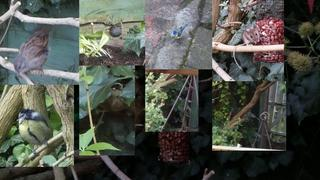blue tit: (16, 109, 52, 157), (170, 24, 188, 47)
dunnock: (13, 24, 55, 78)
mouse: (233, 24, 260, 71)
sparrow: (105, 24, 121, 39)
